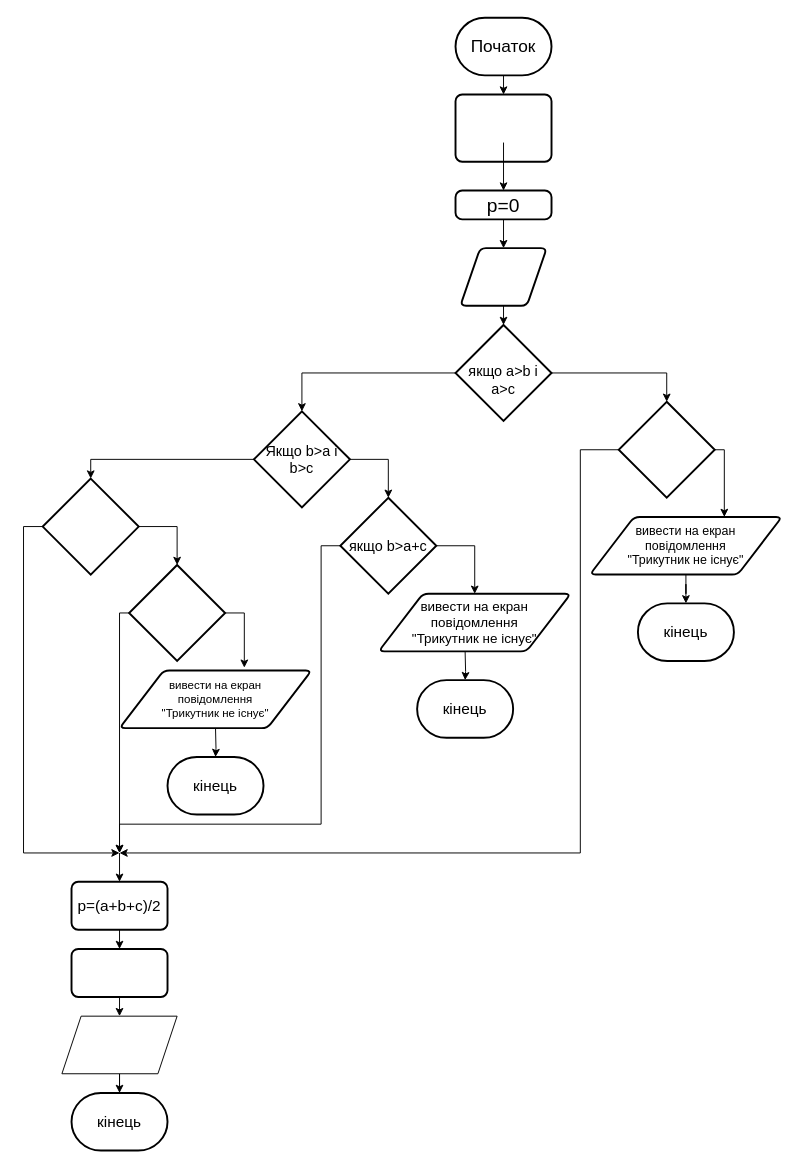
This 800x1167 diagram has some shape labels left out. The shapes that lost their labels are listed below. From the top down, each one's centre as x and y in pixels, then its label:
pixel 503 127: Оголосити змінні a,b,c, p, S
pixel 503 276: ввести a, b, c
pixel 666 449: якщо a>b+c
pixel 90 526: Якщо c>a і c>b
pixel 177 612: якщо c>a+b
pixel 119 972: S=sqrt(p*(p-a)*(p-b)*(p-c))
pixel 119 1044: вивести на екран значення S
